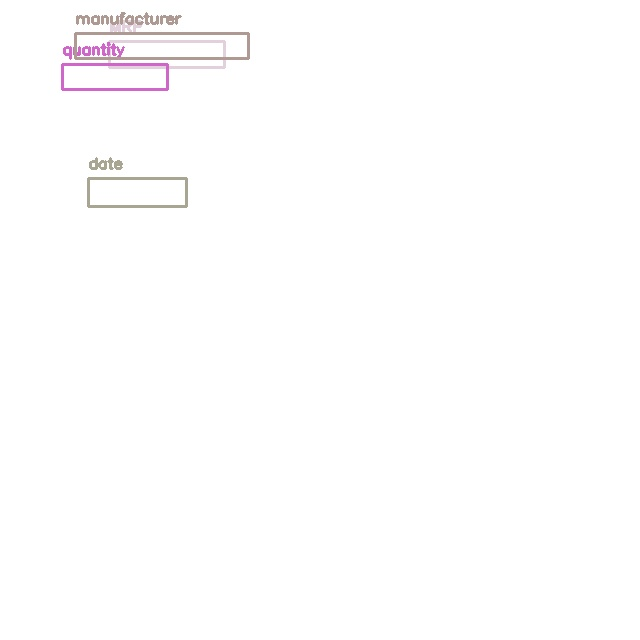MRP: (109, 41, 224, 67)
date: (88, 178, 186, 206)
manufacturer: (75, 33, 248, 58)
quantity: (62, 64, 167, 89)
